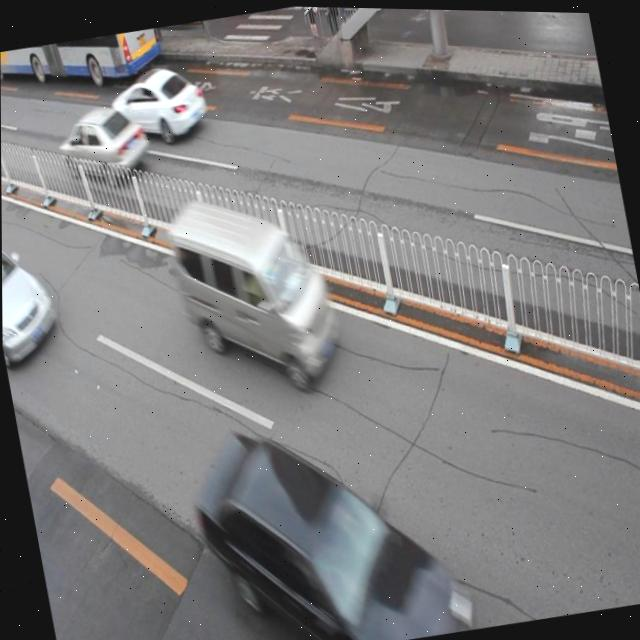car: (187, 397, 474, 640), (106, 60, 211, 152), (53, 98, 153, 191), (1, 226, 63, 365)
truck: (164, 180, 345, 401)
van: (0, 24, 163, 99)
